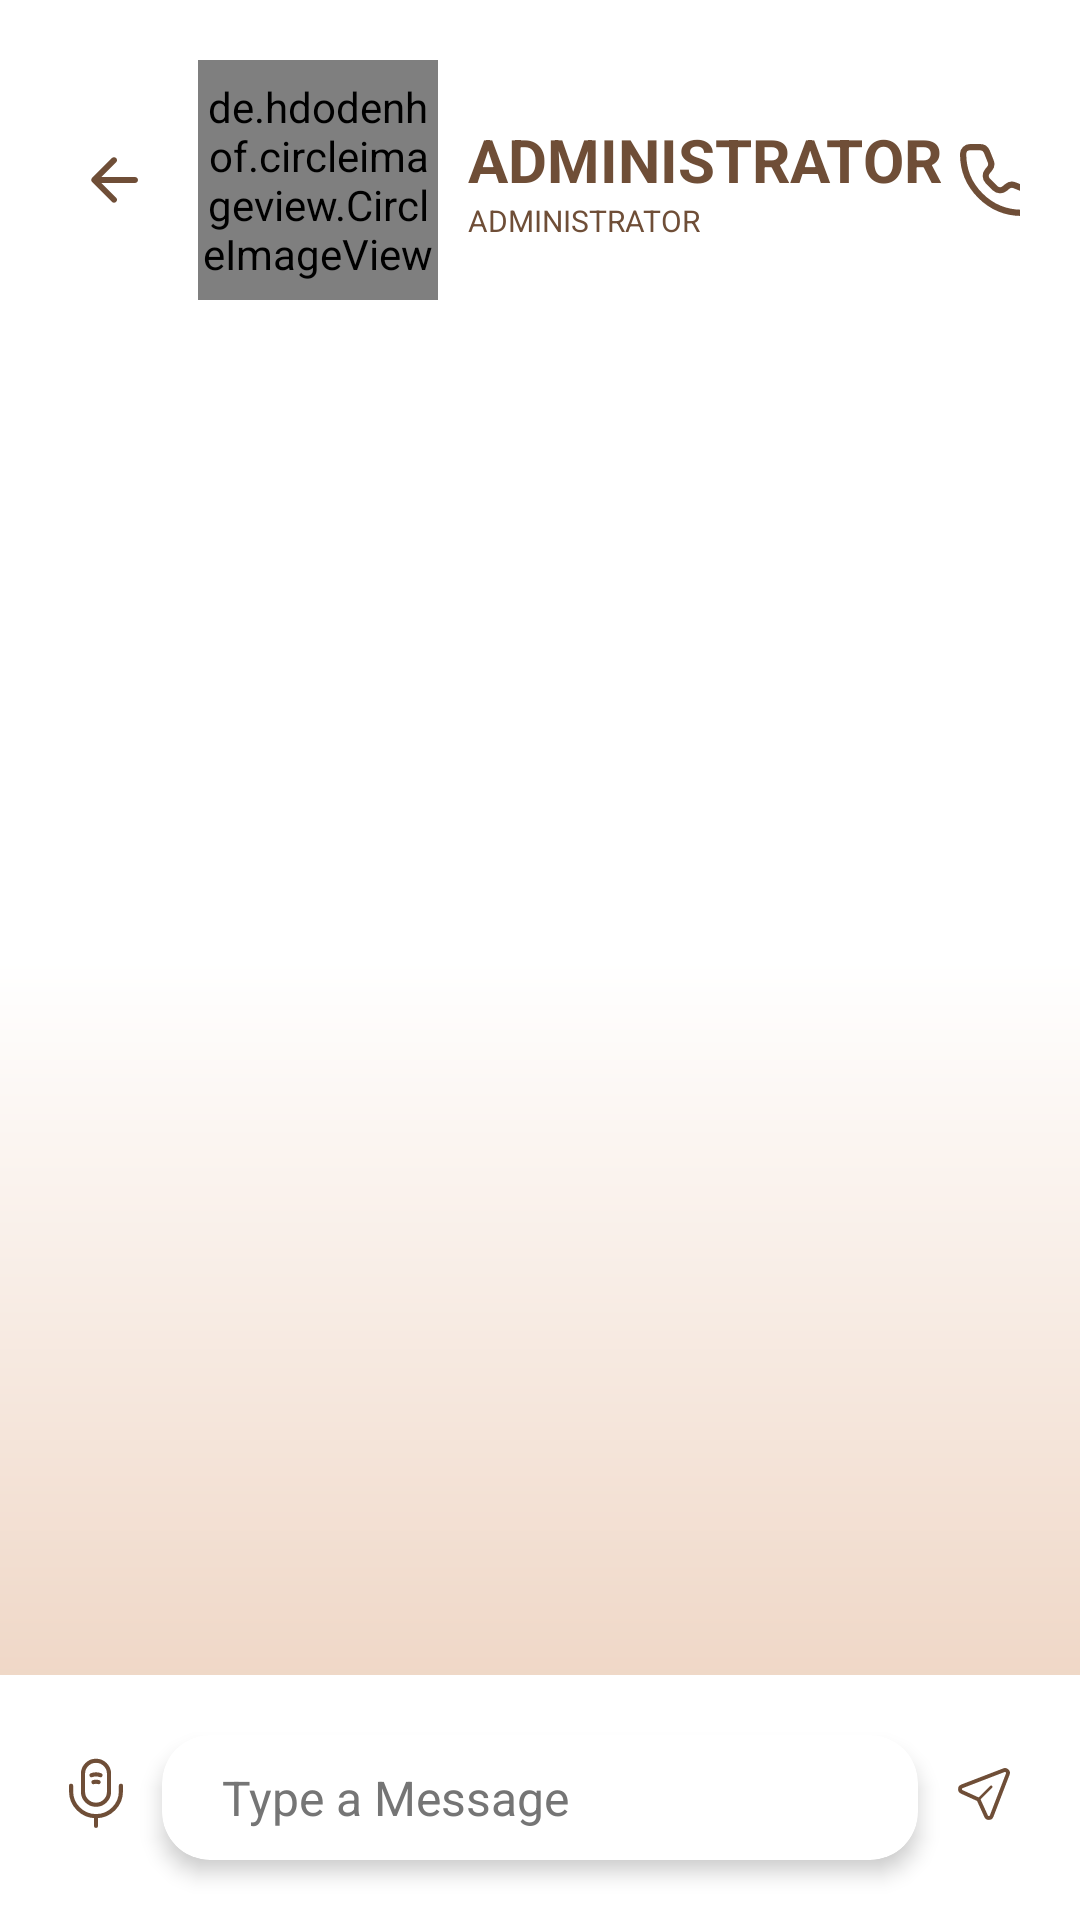

Where icons sit on this 1080 × 1920 app screen, as [left=x1, top=y1, right=x2, bottom=y2]:
back arrow: [left=91, top=157, right=138, bottom=203]
mic: [left=69, top=1758, right=123, bottom=1828]
